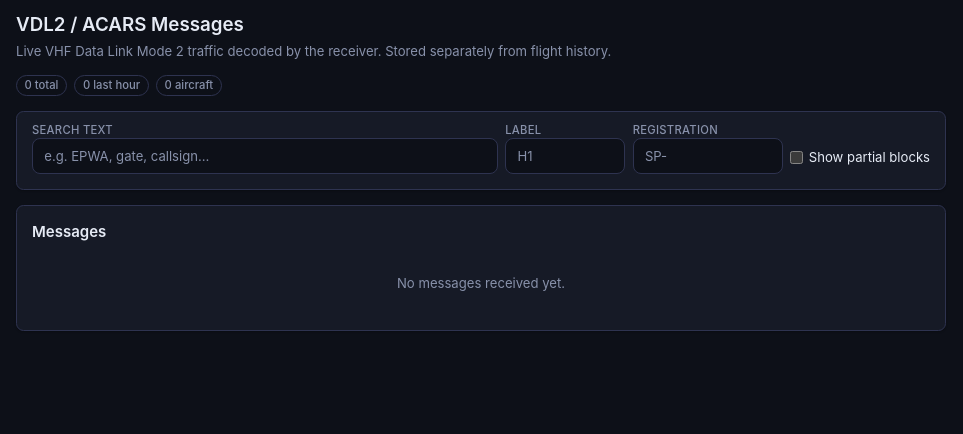
Scenario: Vdl2 page partial-blocks toggle › Clear resets the toggle together with other filters
Expected: the text "No messages received yet." is shown, [397,274,565,290]
Click the checkbox with test id "vdl2-frag" at (797, 157), box [790,151,803,164]
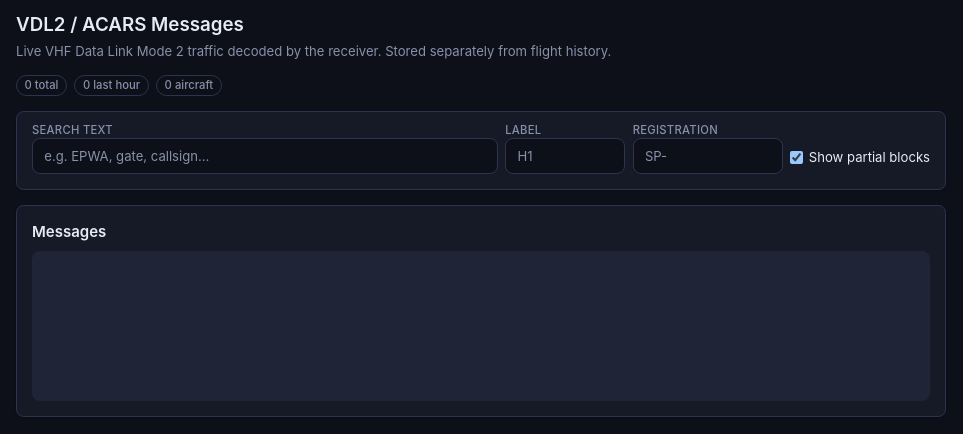
Type "SP-LYF" into the field with test id "vdl2-reg" at (708, 156), box [633,138,783,174]
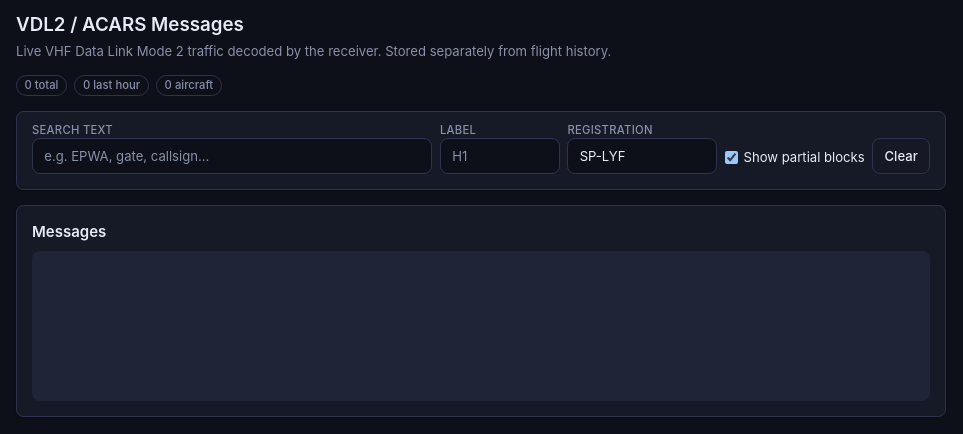
Click the button with test id "vdl2-clear" at (901, 156), box [872,138,930,174]
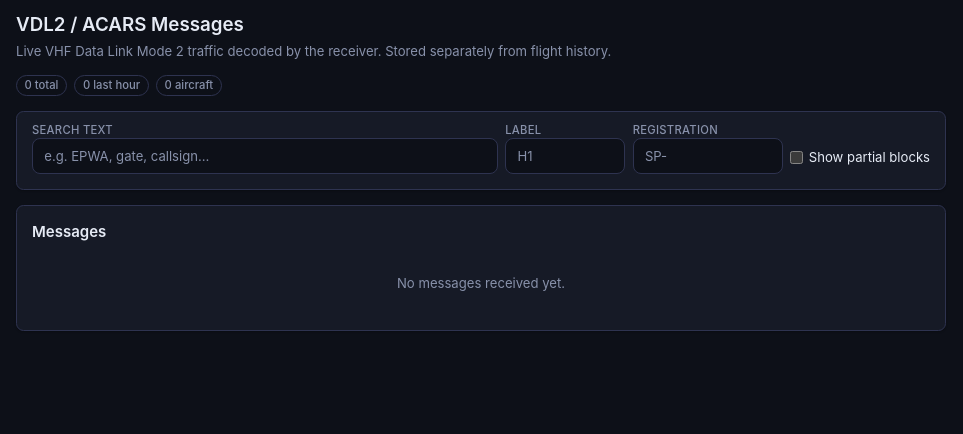
Expected: the checkbox with test id "vdl2-frag" is not checked, [790,151,803,164]
Expected: the button with test id "vdl2-clear" is gone
